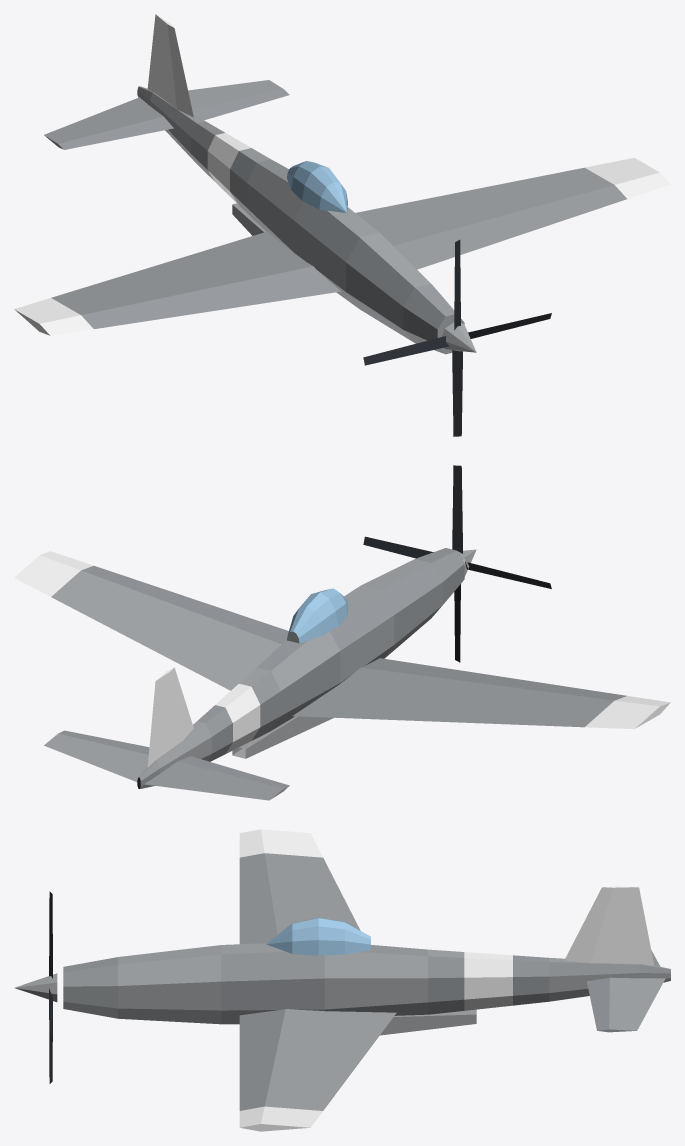
The picture shows the model from 3 angles, top to bottom: view 1: azimuth 30°, elevation 25°; view 2: azimuth 150°, elevation 25°; view 3: azimuth 270°, elevation 25°; orthographic projection. The views are drawn at different scales.
Visible parts, largest first — view 1: body, prop; view 2: body, prop; view 3: body, prop.
Boxes of the visible parts, x1,y1,x2,y2 form: body: (14, 14, 670, 354); prop: (363, 240, 551, 436); body: (14, 548, 670, 800); prop: (363, 465, 551, 662); body: (63, 829, 670, 1131); prop: (14, 891, 57, 1083).
Size of the model in its own units: 11.28 by 3.5 by 10.63.
